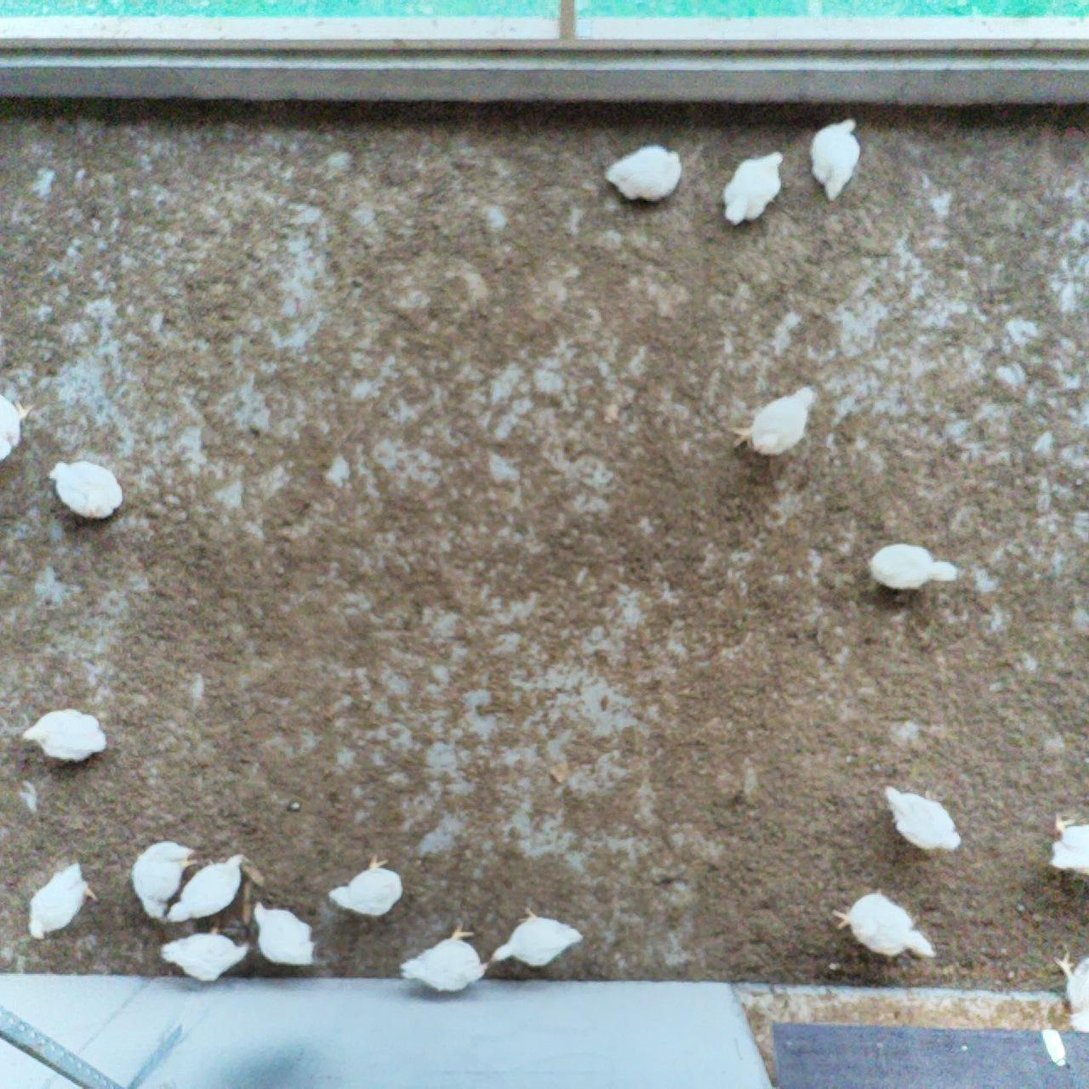chicken: (825, 885, 941, 964), (395, 919, 490, 997), (728, 383, 818, 464), (486, 903, 587, 975), (879, 780, 967, 861), (167, 849, 253, 929), (123, 836, 200, 925), (24, 858, 100, 948), (44, 454, 128, 530), (20, 704, 111, 771), (157, 924, 252, 986), (599, 140, 686, 207), (325, 850, 405, 922), (865, 538, 961, 596), (720, 149, 788, 229), (808, 112, 865, 207), (249, 899, 322, 970), (1048, 943, 1089, 1035), (1041, 808, 1089, 880), (0, 391, 38, 470)
